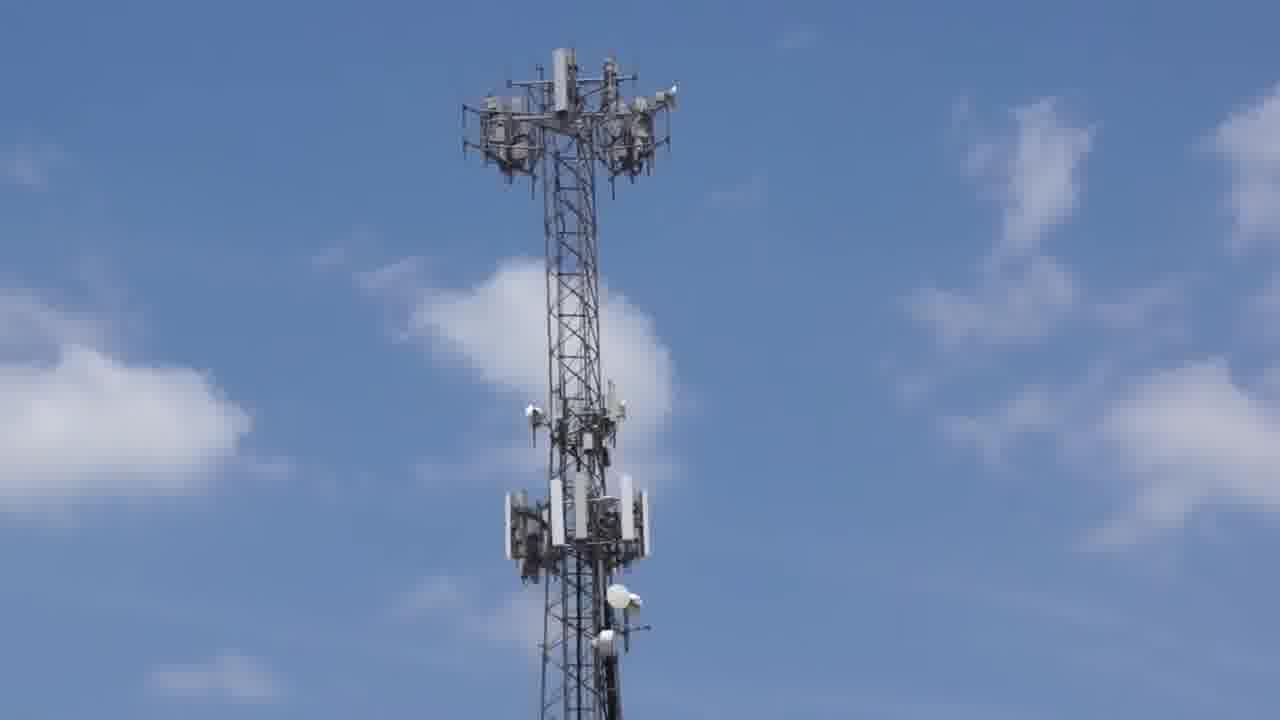Microwave Antenna: (589, 623, 623, 661), (651, 81, 686, 111), (601, 579, 632, 611), (624, 593, 655, 614), (521, 403, 547, 426), (613, 399, 631, 420)
antenna: (547, 46, 580, 116), (567, 470, 600, 539), (546, 476, 573, 559), (616, 472, 642, 547)
